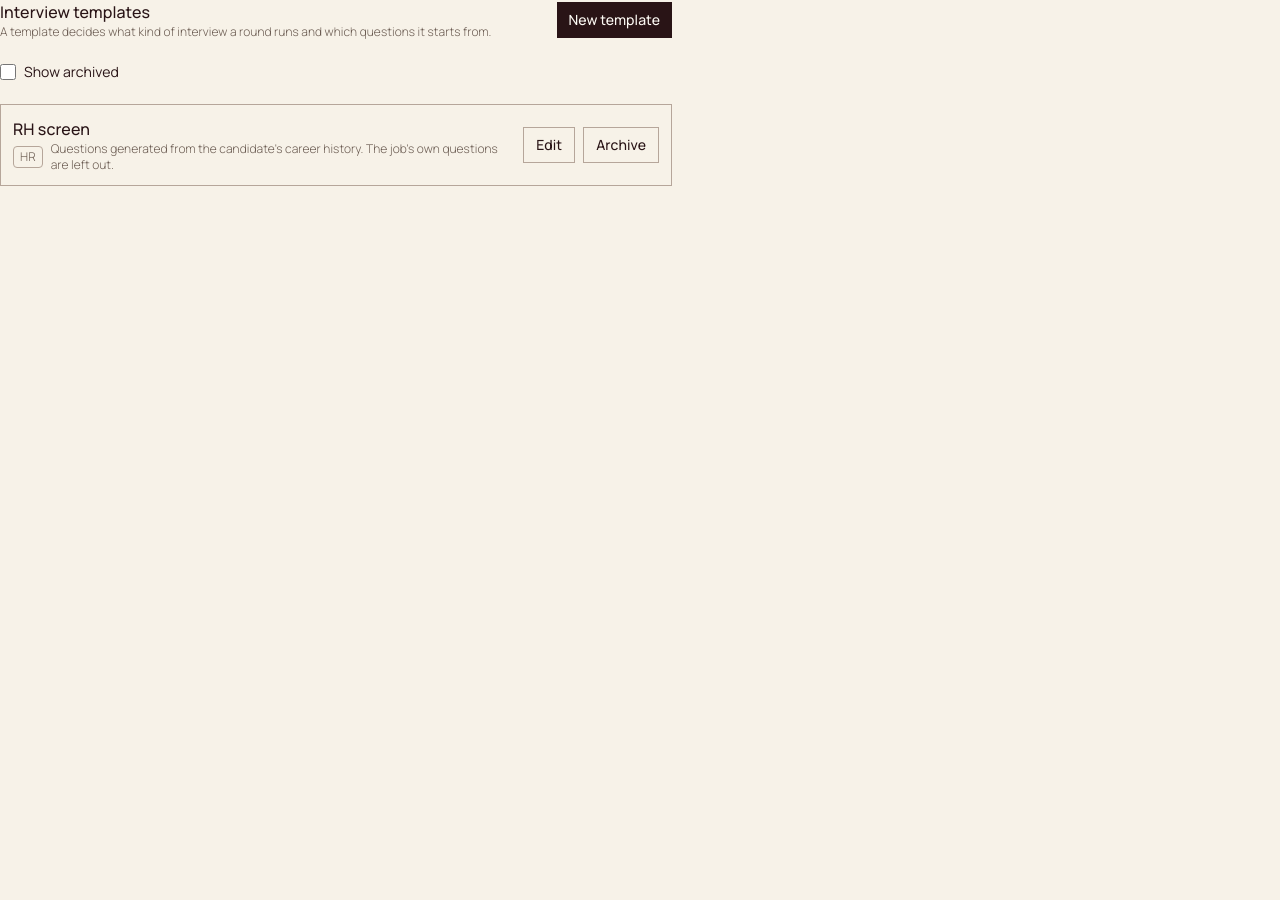
InterviewTemplatesTab › opens an existing template on the kind it already is
Step 1. Click the button with aria-label "edit rh screen" → coordinates (549, 145), box [523,127,575,163]
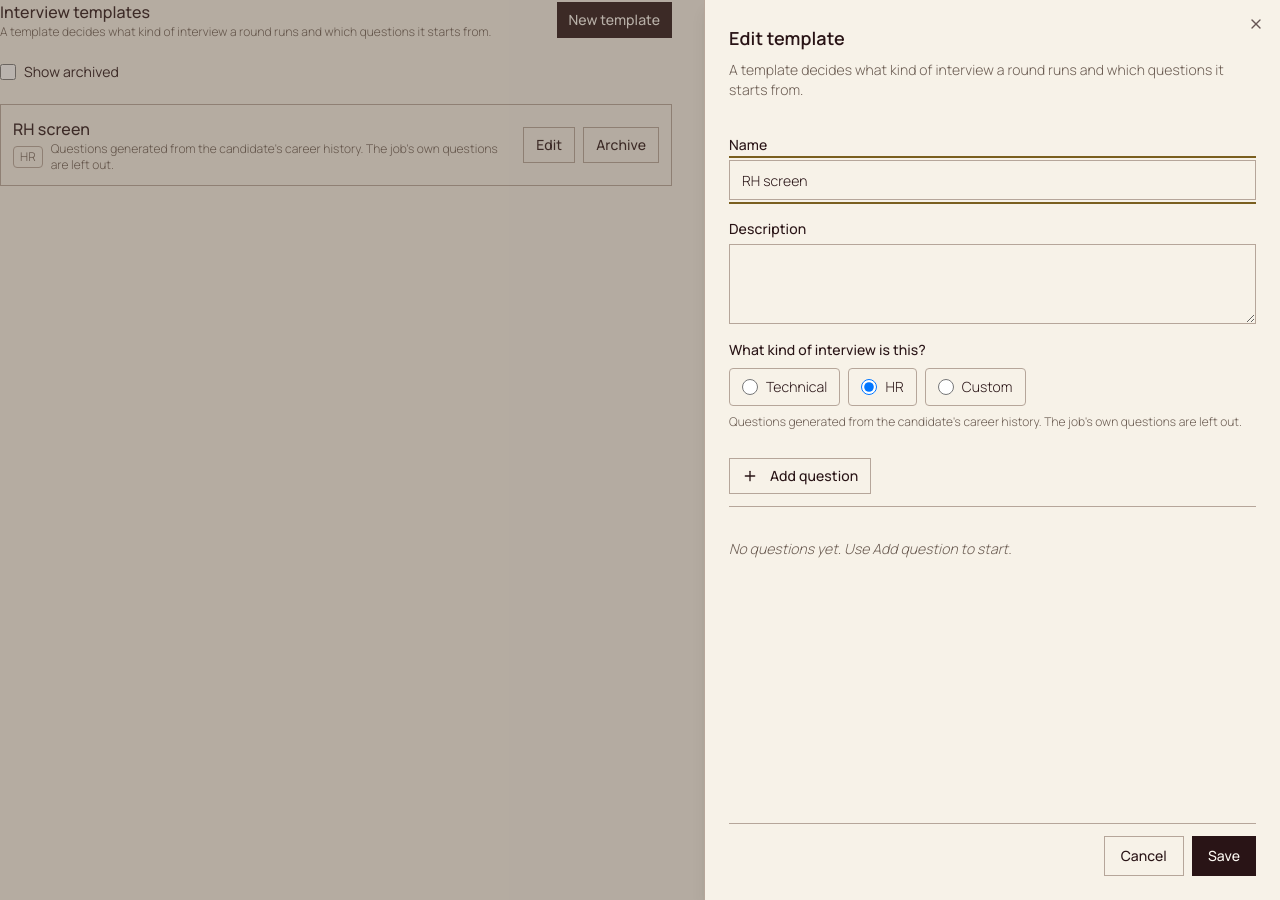
Now the radio button labelled "HR" is checked, box [861,379,877,395]
